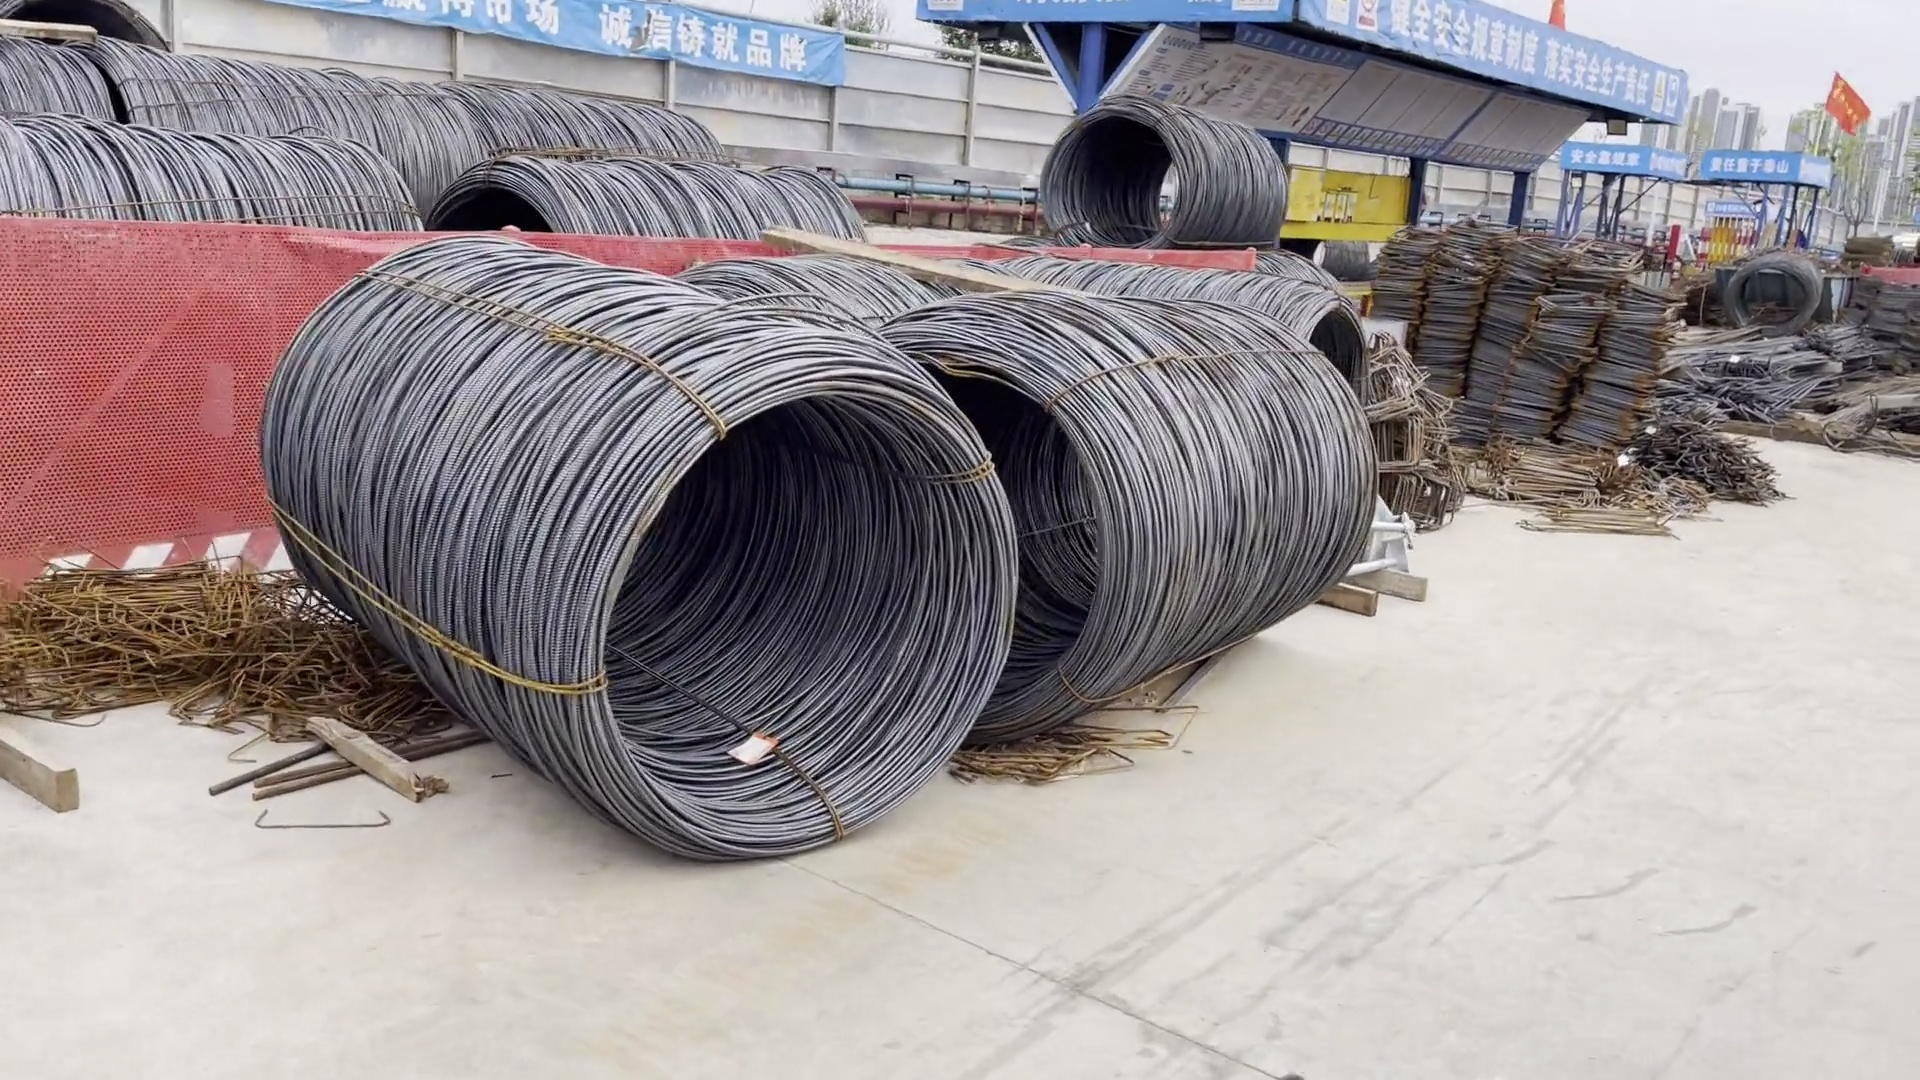ebox: (1282, 157, 1327, 225)
slogan: (388, 1, 802, 74)
